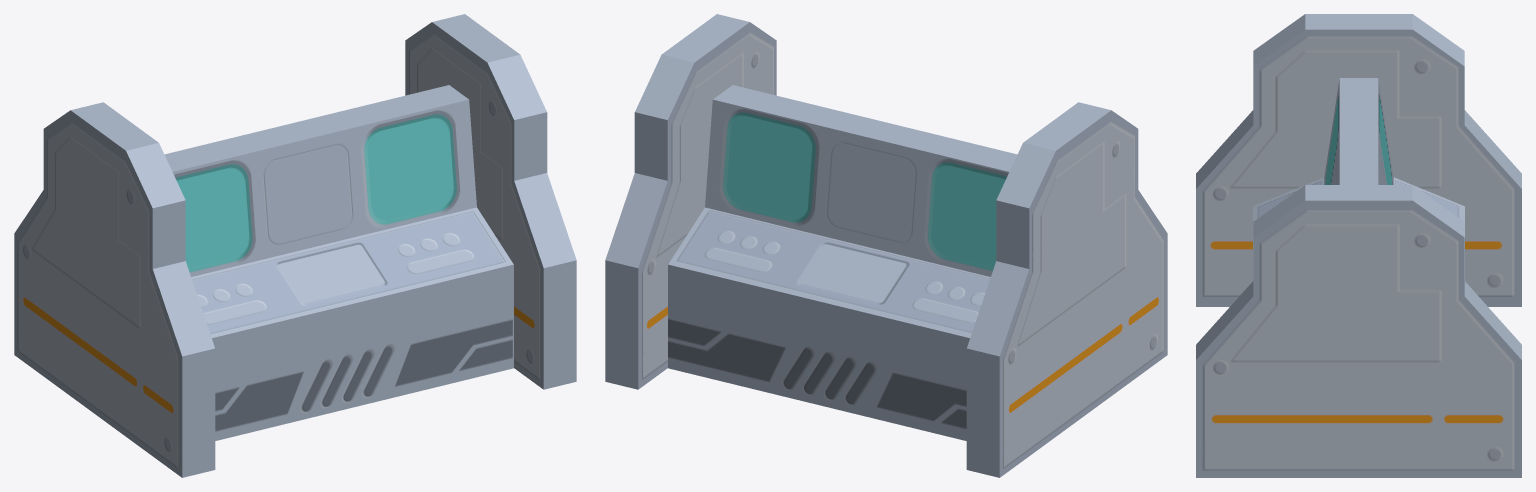
File: Envi8.dae
3 views of the same model, side by side, from view 1: azimuth 30°, elevation 25°; view 2: azimuth 150°, elevation 25°; view 3: azimuth 270°, elevation 25° (orthographic). The views are drawn at different scales.
Parts seen in each view (by area): view 1: Cube.171; view 2: Cube.171; view 3: Cube.171.
Part boxes in pixels (x1=…): Cube.171: x1=14, y1=14, x2=576, y2=477; Cube.171: x1=605, y1=14, x2=1167, y2=477; Cube.171: x1=1196, y1=14, x2=1521, y2=477.
Bounding box in the file's own units: 1.99 × 1.47 × 1.38.
